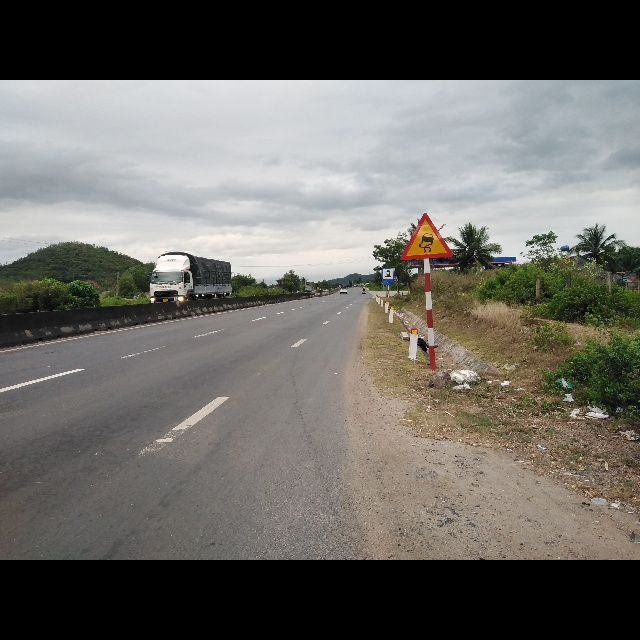Đường trơn trượt: (400, 210, 452, 261)
